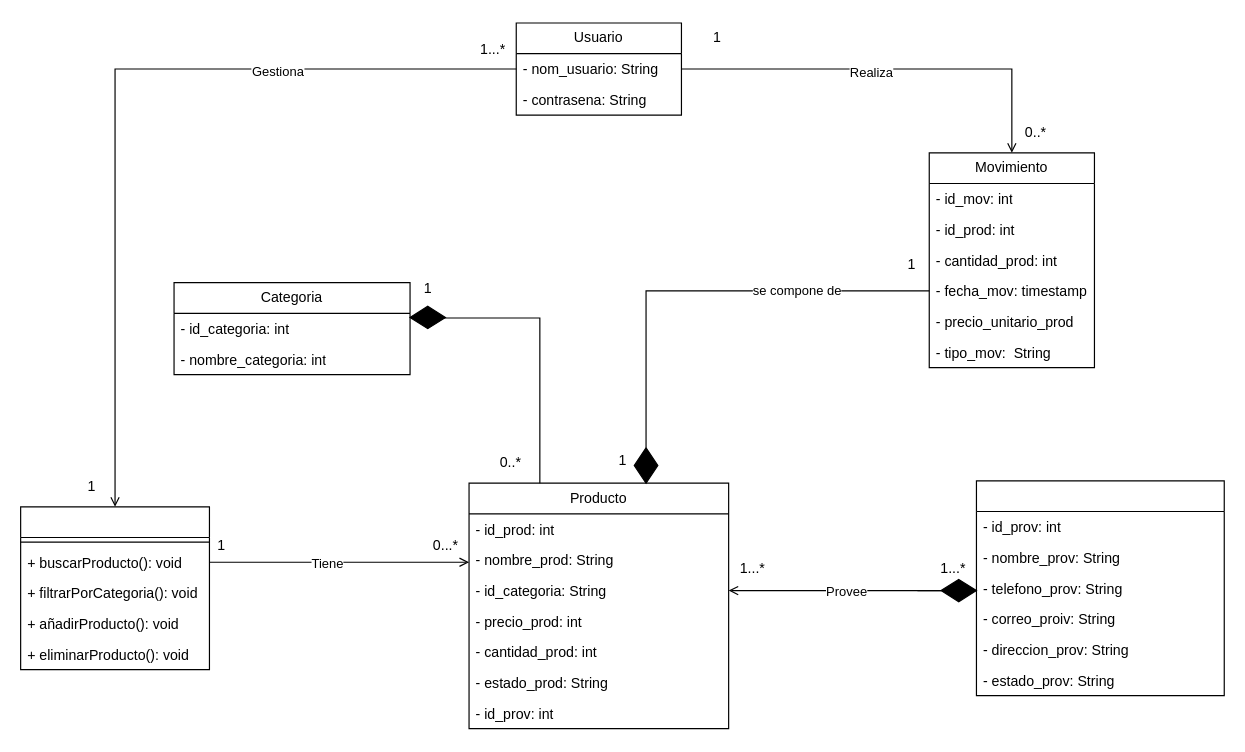
Image size: 1245x752. Some labels were removed from this diagram. Each missing label, with the box of its shape:
Inventario: (19, 506, 209, 670)
Proovedor: (975, 480, 1224, 696)
